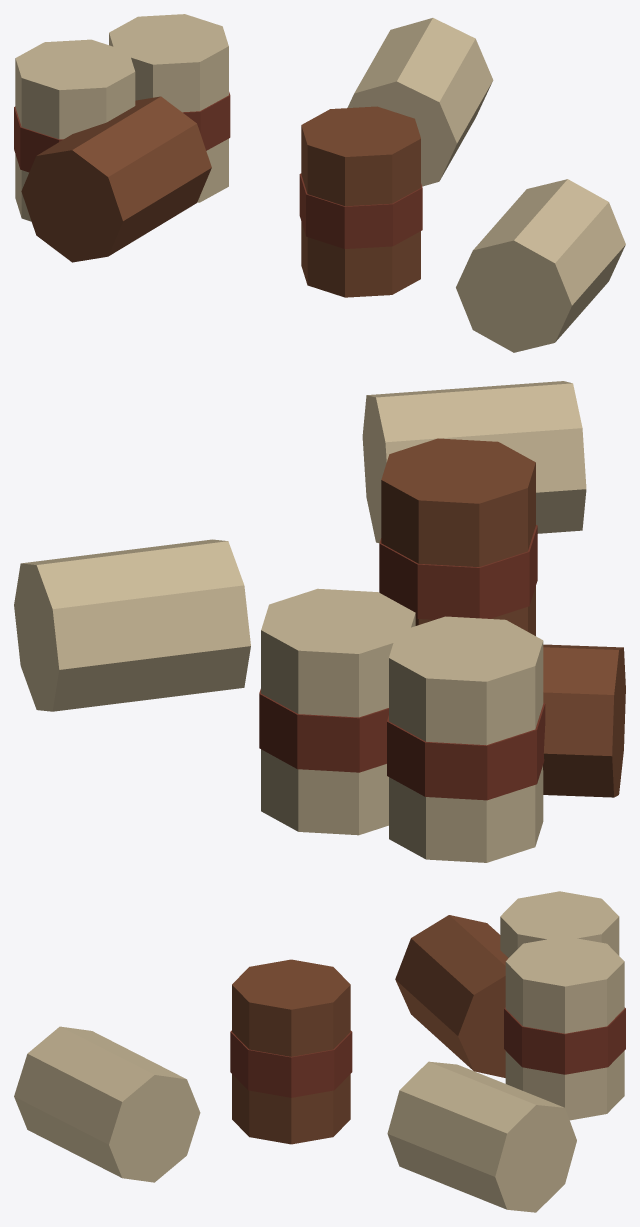
File: relic_cans.glb
The picture shows the model from 3 angles, top to bottom: view 1: azimuth 30°, elevation 25°; view 2: azimuth 150°, elevation 25°; view 3: azimuth 270°, elevation 25°; orthographic projection. The views are drawn at different scales.
Parts seen in each view (by area): view 1: relic_cans; view 2: relic_cans; view 3: relic_cans.
Part boxes in pixels (<box>): relic_cans: <box>14,14,625,352</box>; relic_cans: <box>14,381,625,862</box>; relic_cans: <box>14,891,625,1212</box>.
Size of the model in its own units: 0.6969 by 0.2 by 0.8233.
